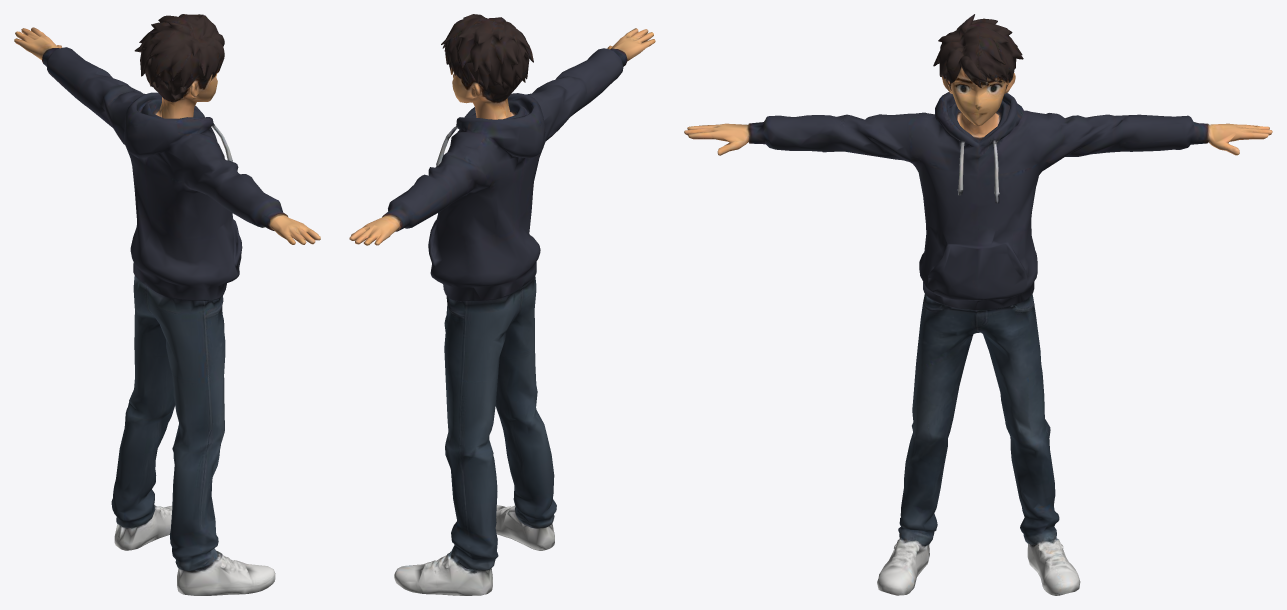
Rendered from casualM.glb.
3 renders of one model, left to right at view 1: azimuth 30°, elevation 25°; view 2: azimuth 150°, elevation 25°; view 3: azimuth 270°, elevation 25°, orthographic.
Parts seen in each view (by area): view 1: tripo_node_cd95021a-0712-4828-8277-96a353e84fbf; view 2: tripo_node_cd95021a-0712-4828-8277-96a353e84fbf; view 3: tripo_node_cd95021a-0712-4828-8277-96a353e84fbf.
Boxes of the visible parts, box(x1,y1,x2,y2) form: tripo_node_cd95021a-0712-4828-8277-96a353e84fbf: box(14, 14, 320, 595); tripo_node_cd95021a-0712-4828-8277-96a353e84fbf: box(349, 14, 655, 595); tripo_node_cd95021a-0712-4828-8277-96a353e84fbf: box(684, 14, 1272, 595).
Size of the model in its own units: 0.2019 by 0.9997 by 0.9651.
1 material, 1 textured.
